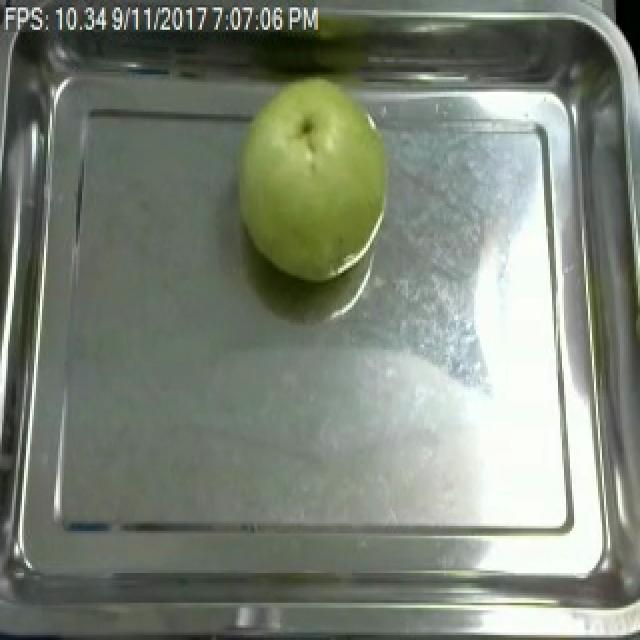Fruit: (224, 70, 400, 290)
